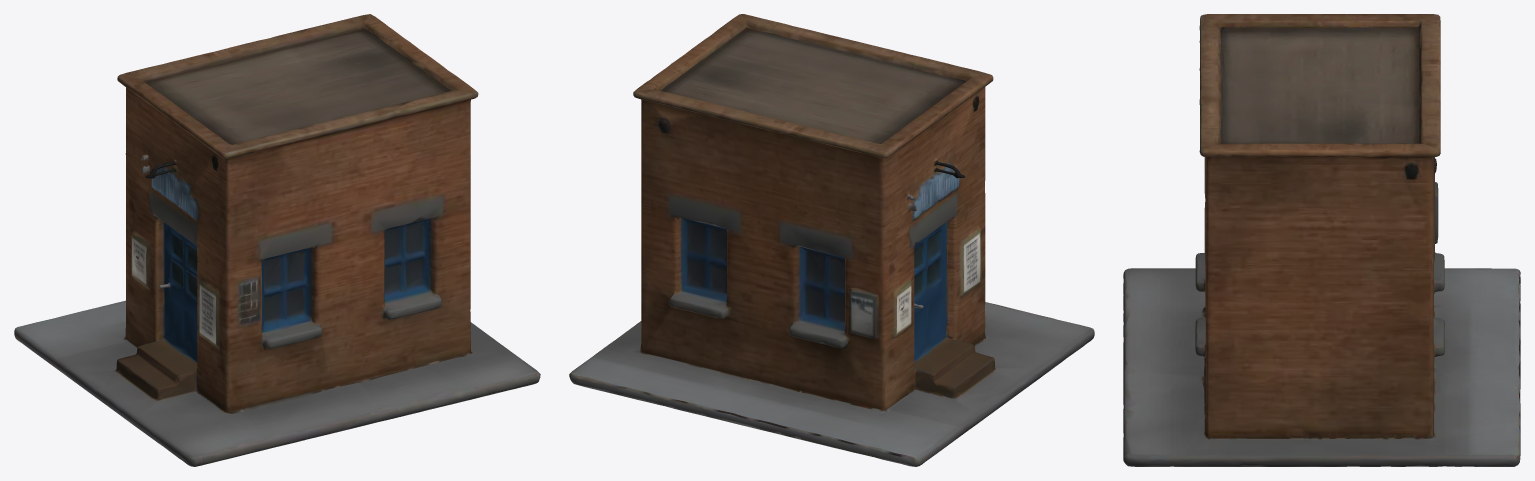
File: police.glb
3 views of the same model, side by side, from view 1: azimuth 30°, elevation 25°; view 2: azimuth 150°, elevation 25°; view 3: azimuth 270°, elevation 25° (orthographic). The views are drawn at different scales.
Size of the model in its own units: 1 by 0.743 by 0.8852.
Materials: 1 (1 with a texture image).
